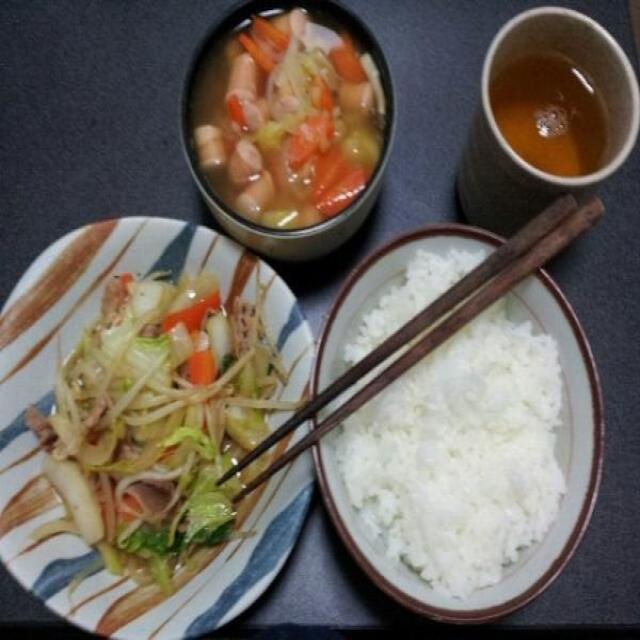Rice: (338, 245, 584, 582)
